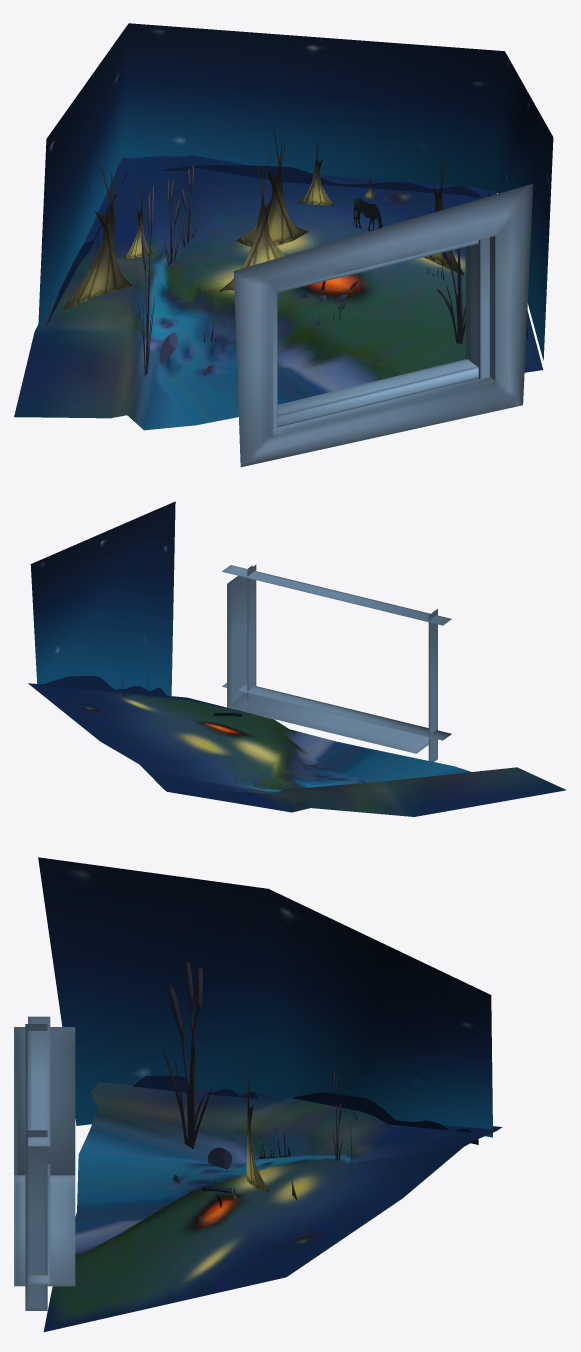
Rendered from IndianView.glb.
The picture shows the model from 3 angles, top to bottom: view 1: azimuth 30°, elevation 25°; view 2: azimuth 150°, elevation 25°; view 3: azimuth 270°, elevation 25°; orthographic projection. The views are drawn at different scales.
Visible parts, largest first — view 1: Sky, Ground, WindowFrame, windowBar2, windowBar3, pPlane54, pPlane30, pPlane22, pPlane19, pPlane48__billboard, pPlane50, windowBar (+6 smaller); view 2: Ground, Sky, WindowFrame, windowBar, windowBar2, windowBar1, windowBar3, pPlane32; view 3: Sky, Ground, WindowFrame, windowBar3, windowBar, pPlane48__billboard, pPlane31, pPlane52, pPlane19, windowBar2.
Part boxes in pixels (x1,y1,x2,y2): Sky: (38, 23, 553, 360); Ground: (14, 155, 543, 430); WindowFrame: (233, 183, 533, 467); windowBar2: (237, 359, 478, 427); windowBar3: (469, 237, 489, 379); pPlane54: (63, 163, 132, 310); pPlane30: (158, 165, 479, 198); pPlane22: (236, 130, 308, 246); pPlane19: (219, 150, 284, 292); pPlane48__billboard: (138, 186, 154, 375); pPlane50: (436, 248, 465, 344); windowBar: (277, 240, 478, 292); Ground: (28, 683, 566, 816); Sky: (30, 501, 175, 695); WindowFrame: (227, 565, 428, 753); windowBar: (222, 565, 451, 625); windowBar2: (222, 683, 451, 740); windowBar1: (428, 609, 437, 761); windowBar3: (247, 564, 256, 700); pPlane32: (40, 676, 166, 696); Sky: (38, 857, 492, 1137); Ground: (43, 1082, 502, 1331); WindowFrame: (14, 1027, 75, 1286); windowBar3: (25, 1130, 47, 1310); windowBar: (28, 1016, 50, 1146); pPlane48__billboard: (162, 961, 210, 1148); pPlane31: (292, 1092, 478, 1144); pPlane52: (133, 1075, 258, 1098); pPlane19: (246, 1058, 269, 1191); windowBar2: (28, 1164, 50, 1284).
Size of the model in its own units: 20.66 by 9.03 by 16.7.
13 materials, 13 textured.
